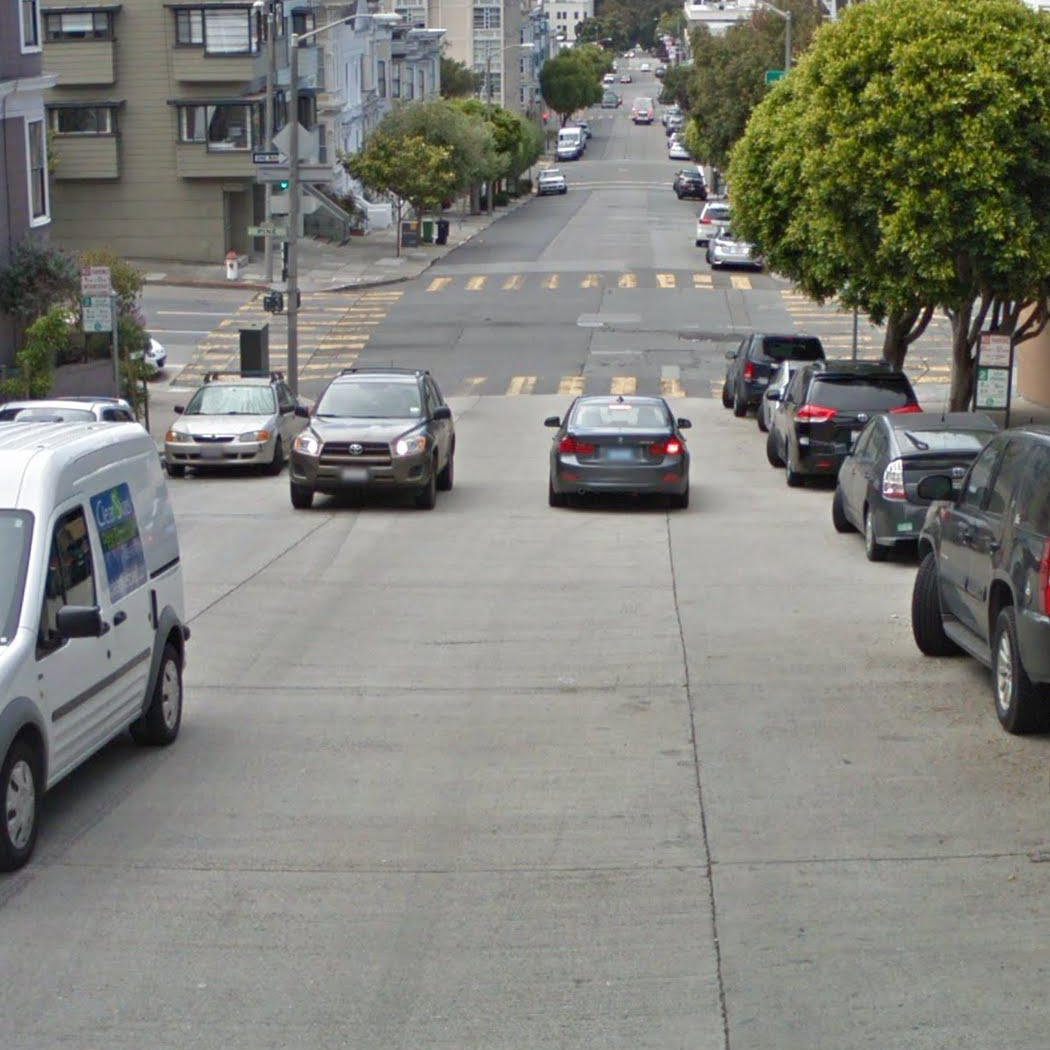1 Hour Parking: (81, 295, 114, 333)
No Parking: (80, 265, 112, 297)
